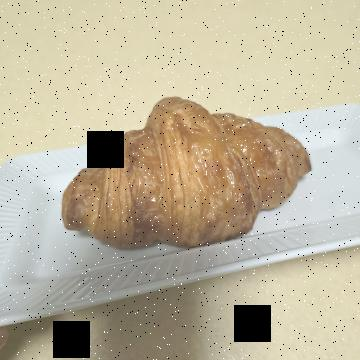croissant: (98, 41, 276, 315)
